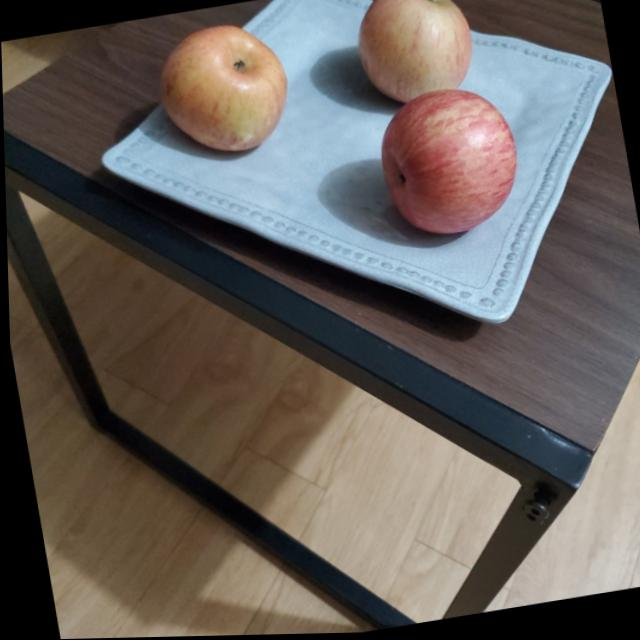apple: (366, 86, 525, 250), (153, 17, 295, 162), (349, 0, 483, 110)
